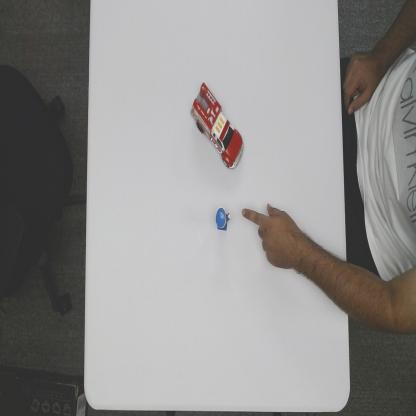Arm: (300, 230, 348, 318)
Firetruck: (189, 80, 245, 171)
Hand: (242, 200, 298, 275)
